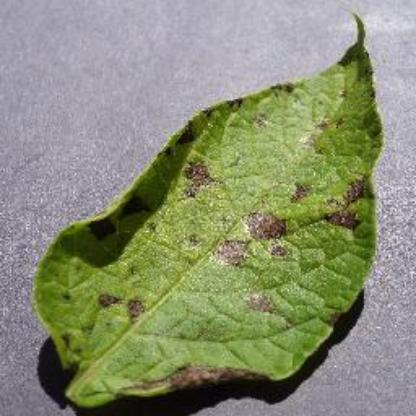Early-Blight: (31, 11, 387, 411)
